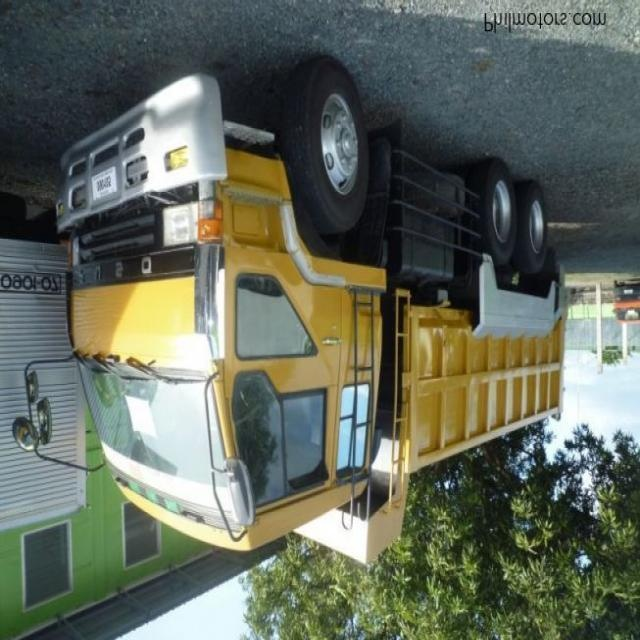Truck: (14, 61, 566, 575)
